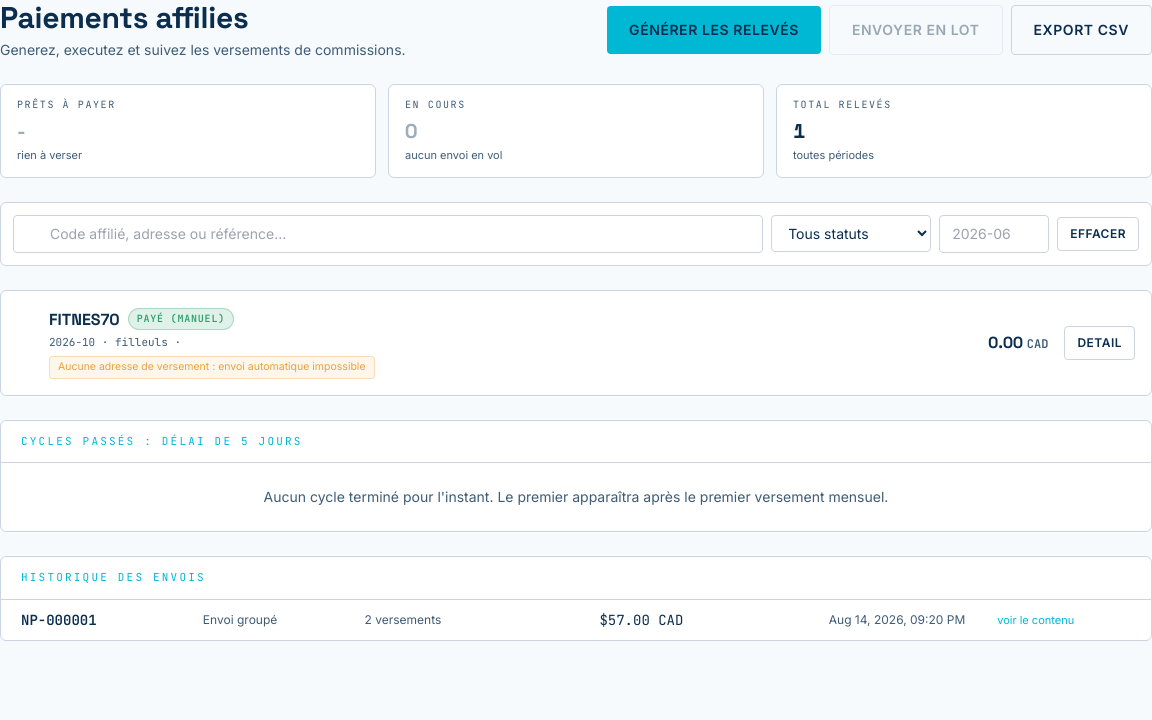
AdminPayouts — les avis envoyés › un VRAI ecart alerte encore, retenue ou pas
The width and height of the screenshot is (1152, 720).
Click the button with test id "detail-p-9".
click(1100, 343)  # box [1064,326,1135,360]
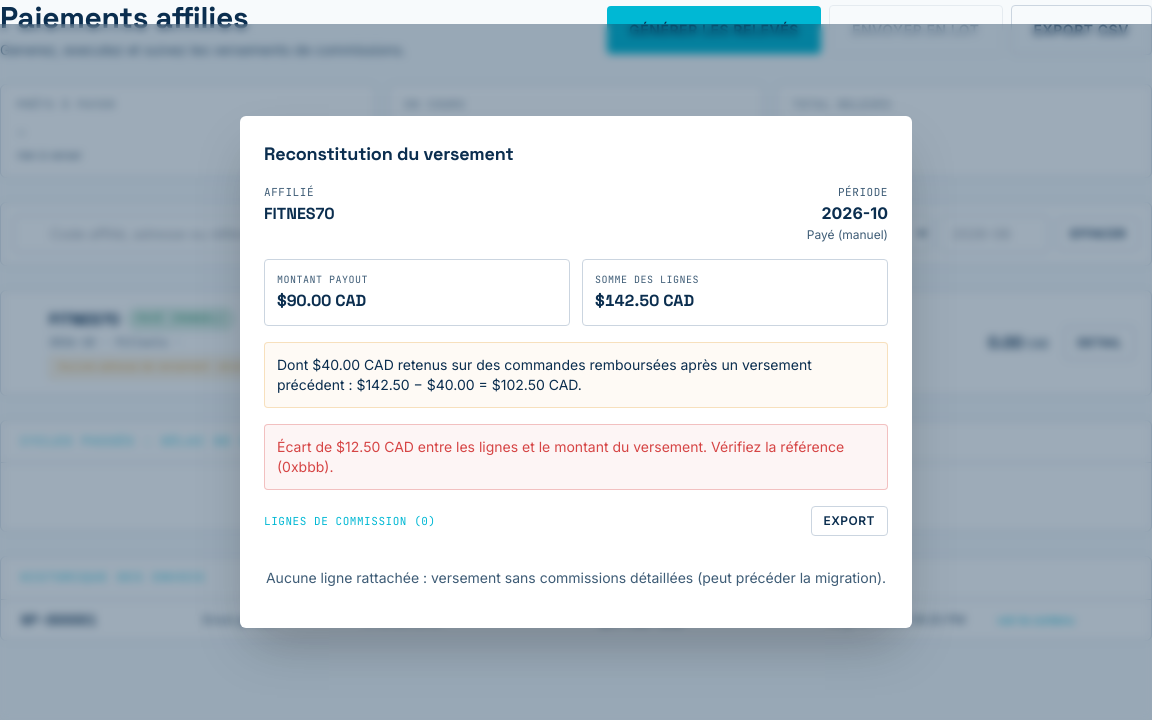
Expected: the text with test id "lot-detail-creance" is shown, [264,342,888,408]
Expected: the text "entre les lignes et le montant du versement" shows "12.50", [277,438,844,475]
